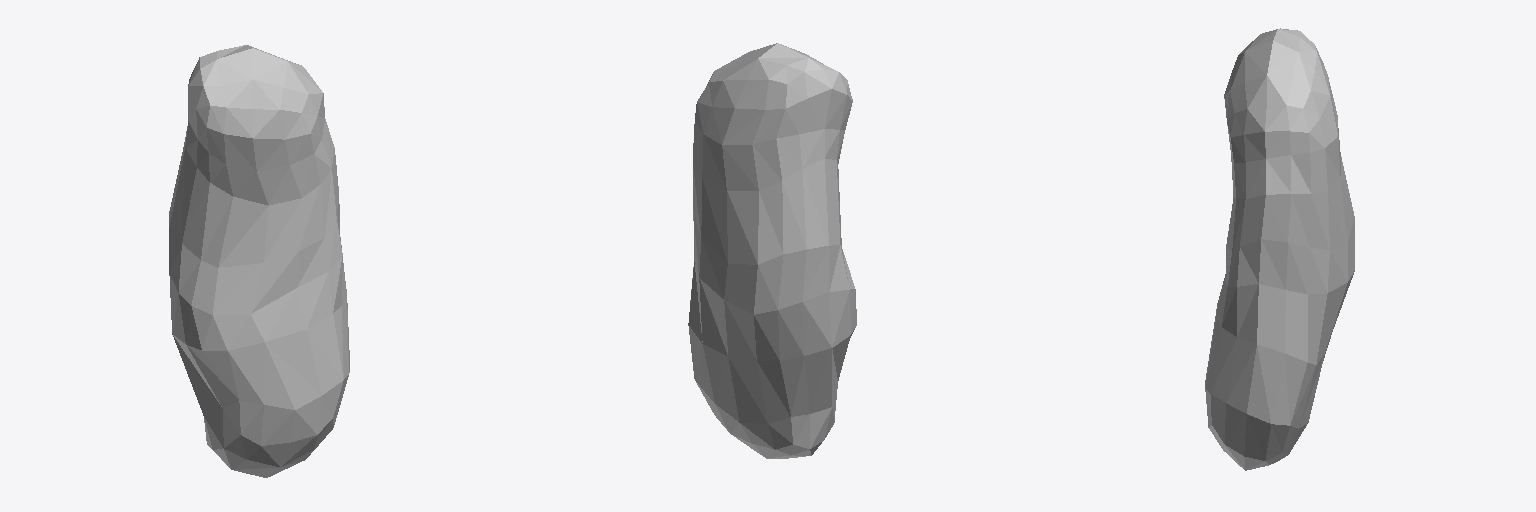
Rendered from rock5.obj.
3 views of the same model, side by side, from view 1: azimuth 30°, elevation 25°; view 2: azimuth 150°, elevation 25°; view 3: azimuth 270°, elevation 25° (orthographic).
Visible parts, largest first — view 1: [Imported]_obj8_obj8; view 2: [Imported]_obj8_obj8; view 3: [Imported]_obj8_obj8.
Part boxes in pixels (bbox=[...]): [Imported]_obj8_obj8: bbox=[169, 45, 349, 477]; [Imported]_obj8_obj8: bbox=[688, 43, 856, 458]; [Imported]_obj8_obj8: bbox=[1205, 28, 1354, 470].
Size of the model in its own units: 10.03 by 25.52 by 8.2.